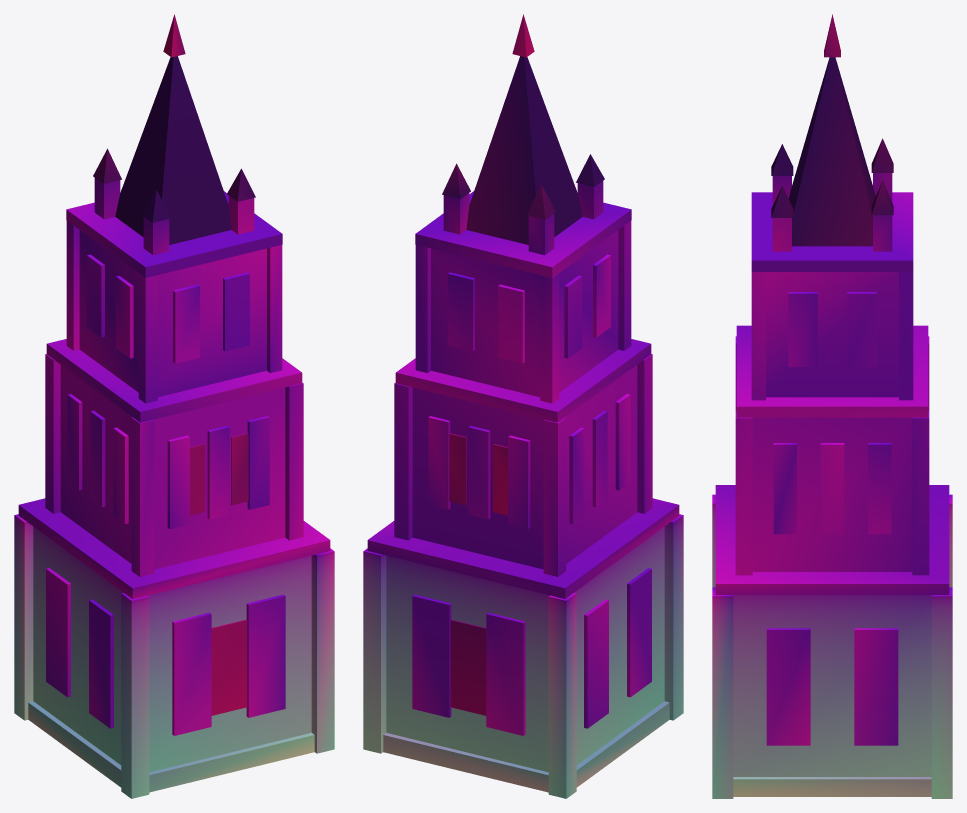
The model's file is spire_tower_b.glb.
3 renders of one model, left to right at view 1: azimuth 30°, elevation 25°; view 2: azimuth 150°, elevation 25°; view 3: azimuth 270°, elevation 25°, orthographic. The views are drawn at different scales.
Visible parts, largest first — view 1: tower_body, tower_niches, tower_trim, tower_roof, tower_windows; view 2: tower_body, tower_niches, tower_trim, tower_roof, tower_windows; view 3: tower_body, tower_trim, tower_niches, tower_roof, tower_gild.
Part boxes in pixels (x1,y1,x2,y2): tower_body: (14,221,334,798); tower_niches: (46,254,285,735); tower_trim: (18,178,330,792); tower_roof: (93,56,255,244); tower_windows: (190,433,248,715); tower_body: (363,221,683,798); tower_niches: (412,254,651,735); tower_trim: (367,181,679,792); tower_roof: (442,56,604,244); tower_windows: (449,433,507,715); tower_body: (712,272,952,798); tower_trim: (715,173,949,796); tower_niches: (766,292,898,745); tower_roof: (771,57,893,246); tower_gild: (824,14,840,57).
Size of the model in its own units: 9.85 by 33.24 by 9.85.
